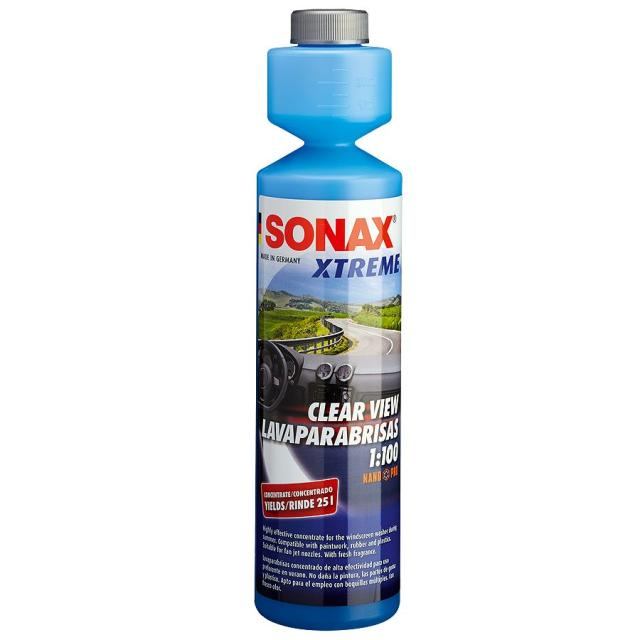winwinshield_washer: (248, 4, 407, 636)
